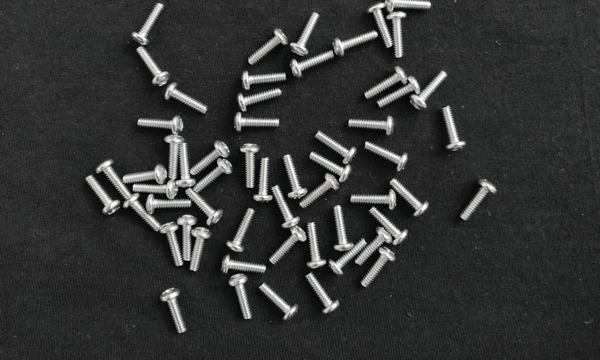shortscrew: (461, 179, 498, 223), (390, 179, 431, 218), (370, 207, 409, 247), (165, 82, 209, 117), (411, 70, 448, 111), (259, 284, 300, 321), (361, 247, 397, 289), (269, 227, 307, 266), (248, 28, 288, 65), (304, 273, 340, 314), (131, 3, 164, 47), (356, 228, 394, 266), (124, 194, 162, 232), (186, 187, 223, 226), (328, 240, 368, 276), (299, 174, 339, 210), (85, 175, 120, 216), (308, 153, 352, 185), (317, 131, 358, 165), (190, 141, 231, 175), (137, 46, 170, 88), (378, 76, 421, 108), (365, 142, 409, 173), (271, 185, 302, 229), (364, 68, 407, 99), (290, 12, 320, 56), (226, 208, 255, 253), (195, 158, 233, 192), (367, 2, 395, 48), (290, 50, 336, 78), (97, 159, 130, 198), (160, 288, 187, 334), (332, 30, 379, 56), (283, 153, 309, 200), (189, 227, 214, 273), (159, 222, 184, 267), (443, 106, 467, 152), (228, 275, 253, 319), (238, 88, 283, 112), (146, 193, 192, 215), (334, 205, 355, 252), (349, 114, 395, 135), (351, 190, 397, 211), (253, 159, 274, 205), (307, 221, 327, 269), (177, 214, 197, 262), (221, 255, 266, 276), (233, 114, 280, 134), (138, 116, 185, 136), (123, 164, 169, 184), (387, 10, 406, 58), (177, 143, 196, 190), (165, 135, 184, 181), (133, 181, 179, 200), (241, 144, 260, 189), (241, 72, 287, 90), (385, 0, 431, 13)
